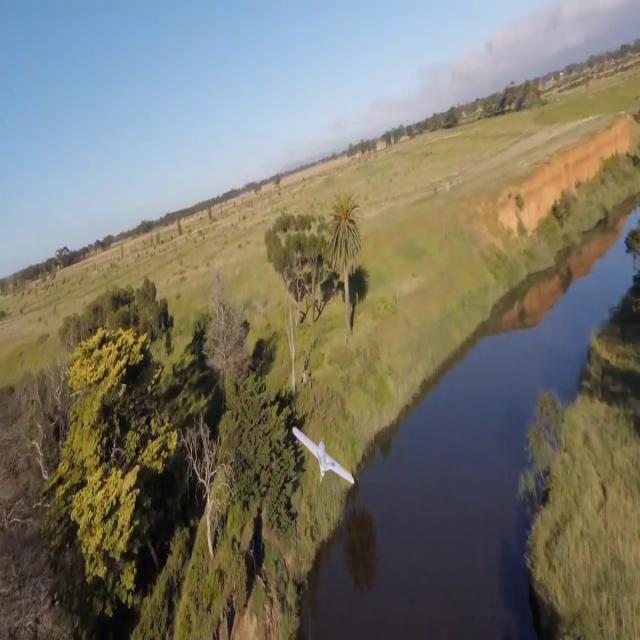iha: (322, 447, 324, 449)
